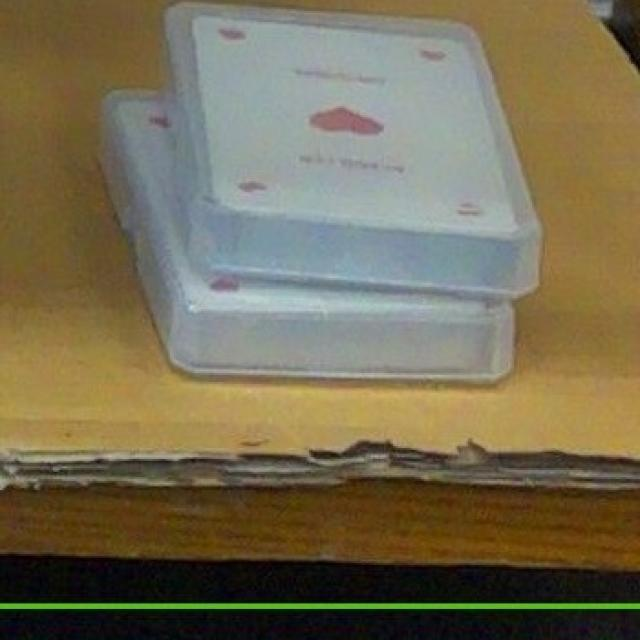Jasskarte: (101, 91, 514, 382), (166, 4, 539, 296)
